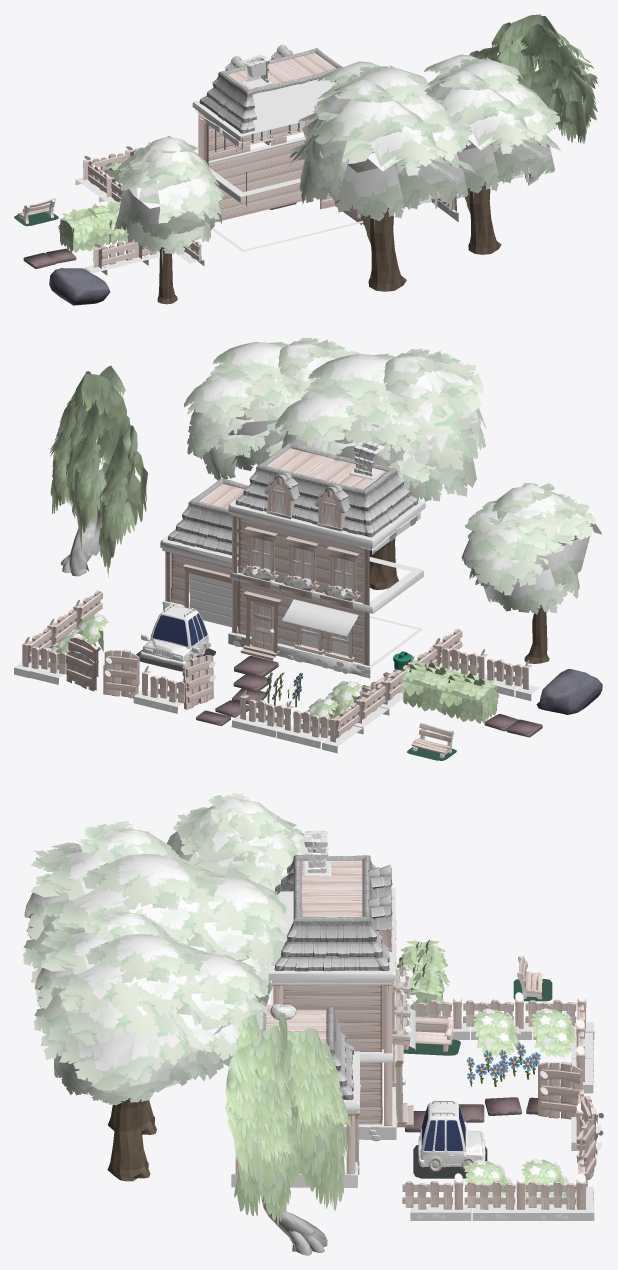
Rendered from TownHouseGarage.fbx.
The picture shows the model from 3 angles, top to bottom: view 1: azimuth 30°, elevation 25°; view 2: azimuth 150°, elevation 25°; view 3: azimuth 270°, elevation 25°; orthographic projection. The views are drawn at different scales.
Visible parts, largest first — view 1: TreeMapleTrunkMediumA (×2), HouseFloorGround002, TreeMapleCrownMediumA1 (×2), TreeMapleCrown1b, TreeMapleTrunkSmallB, TreeMapleCrownMediumA3 (×2), WillowCrown1, Hedge (×2), WillowCrown2, TreeMapleCrownMediumA2 (×2), ForestRock09, WillowCrown3 (+4 smaller); view 2: HouseFloorGround002, TreeMapleTrunkMediumA (×2), TreeMapleCrownMediumA2 (×2), TreeMapleCrownMediumA1 (×2), Garage, TreeMapleCrown1b, TreeMapleTrunkSmallB, FenceTownWoodR (×6), Hedge (×2), WillowCrown2, stationwagonVertex, WillowCrown5 (+14 smaller); view 3: HouseFloorGround002, TreeMapleCrownMediumA1 (×2), TreeMapleCrownMediumA2 (×2), TreeMapleTrunkMediumA (×2), WillowCrown1, TreeMapleTrunkSmallB, WillowCrown5, FenceTownWoodL (×5), Garage, BushSmall (×4), WillowCrown4, stationwagonVertex (+14 smaller).
Boxes of the visible parts, x1,y1,x2,y2 form: TreeMapleTrunkMediumA (×2): (289,70,546,284); HouseFloorGround002: (192,44,363,251); TreeMapleCrownMediumA1 (×2): (306,58,560,196); TreeMapleCrown1b: (114,137,223,254); TreeMapleTrunkSmallB: (117,137,221,298); TreeMapleCrownMediumA3 (×2): (312,85,554,209); WillowCrown1: (530,16,597,143); Hedge (×2): (58,200,128,252); WillowCrown2: (476,14,541,88); TreeMapleCrownMediumA2 (×2): (286,54,561,173); ForestRock09: (49,268,110,305); WillowCrown3: (520,24,561,61); HouseFloorGround002: (228,443,425,678); TreeMapleTrunkMediumA (×2): (236,337,486,581); TreeMapleCrownMediumA2 (×2): (183,370,435,489); TreeMapleCrownMediumA1 (×2): (203,341,485,458); Garage: (160,478,247,627); TreeMapleCrown1b: (461,484,601,614); TreeMapleTrunkSmallB: (465,483,596,658); FenceTownWoodR (×6): (31,646,522,738); Hedge (×2): (400,661,498,723); WillowCrown2: (81,373,147,525); stationwagonVertex: (140,603,210,666); WillowCrown5: (70,400,106,551); HouseFloorGround002: (268,854,415,1141); TreeMapleCrownMediumA1 (×2): (23,854,227,1045); TreeMapleCrownMediumA2 (×2): (23,872,288,1090); TreeMapleTrunkMediumA (×2): (24,821,189,1170); WillowCrown1: (225,1025,301,1216); TreeMapleTrunkSmallB: (173,793,298,888); WillowCrown5: (289,1028,339,1208); FenceTownWoodL (×5): (402,999,576,1209); Garage: (231,1000,360,1187); BushSmall (×4): (464,1009,575,1205); WillowCrown4: (252,1079,294,1225); stationwagonVertex: (418,1100,485,1171).
Size of what is drawn, in the model's own units: 21.87 by 8.49 by 16.27.
Materials: 13 (9 with a texture image).
